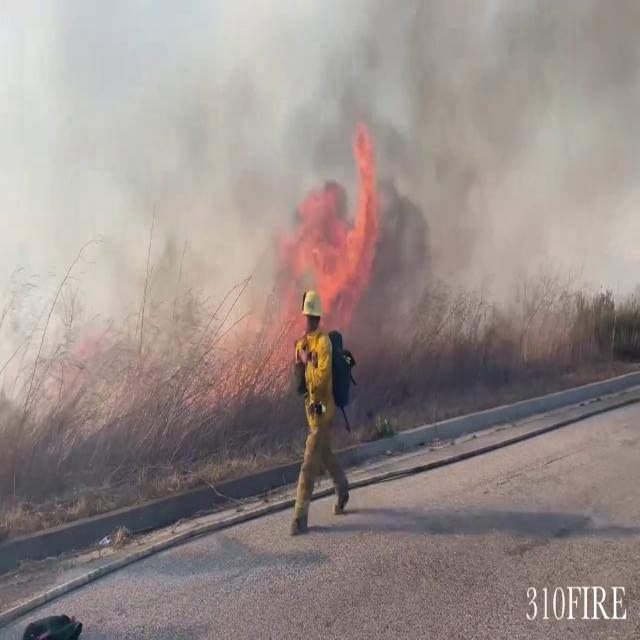Fire: (286, 120, 386, 316)
Smoke: (33, 0, 639, 370)
